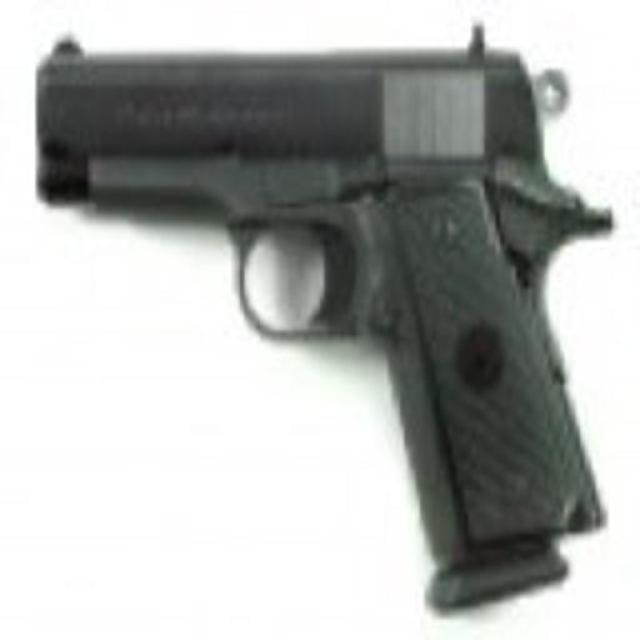pistol: (31, 26, 620, 617)
